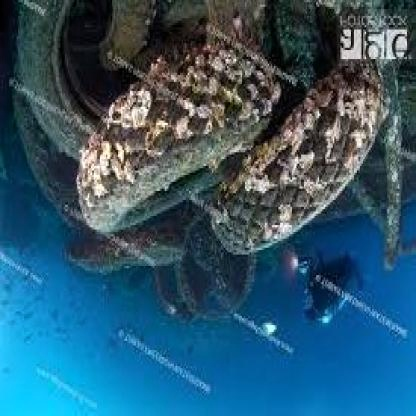tire: (80, 47, 260, 230), (18, 5, 185, 196), (236, 75, 378, 243), (172, 191, 252, 325)
